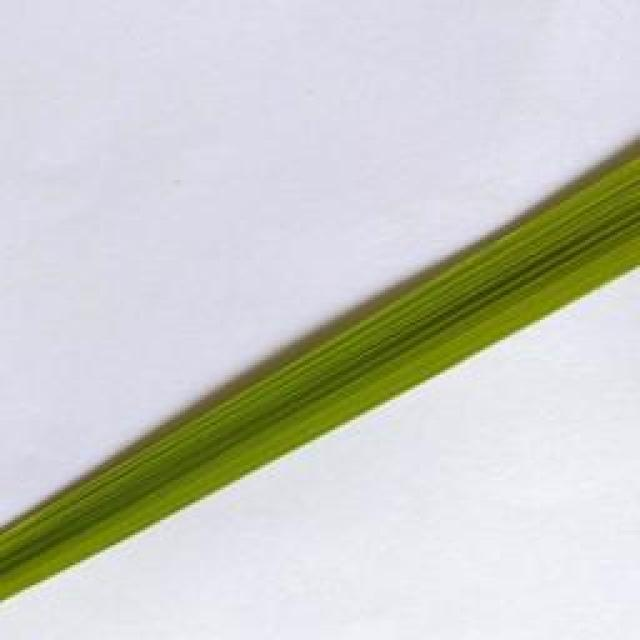Healthy-Plant: (0, 155, 632, 600)
